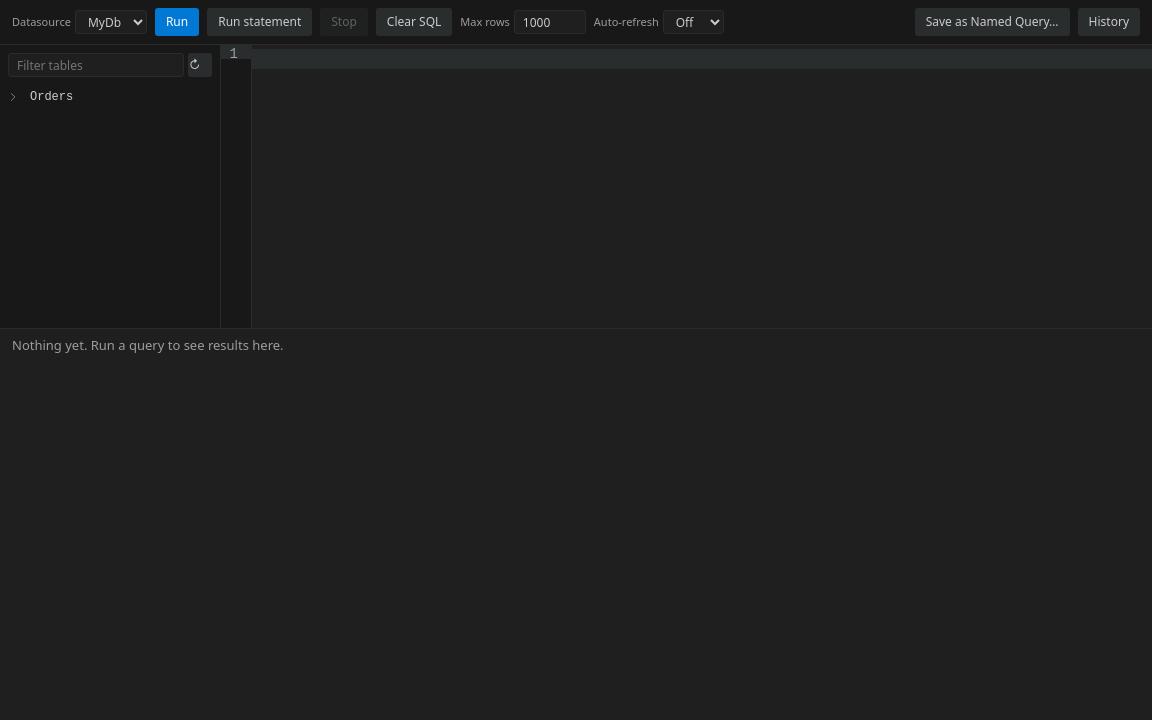
Test: QueryBrowser — save as named query (C) › in a pop-out (no callbacks given) the confirmation has no Open button
Click the button "Save as Named Query…": (992, 22) [915,8,1070,36]
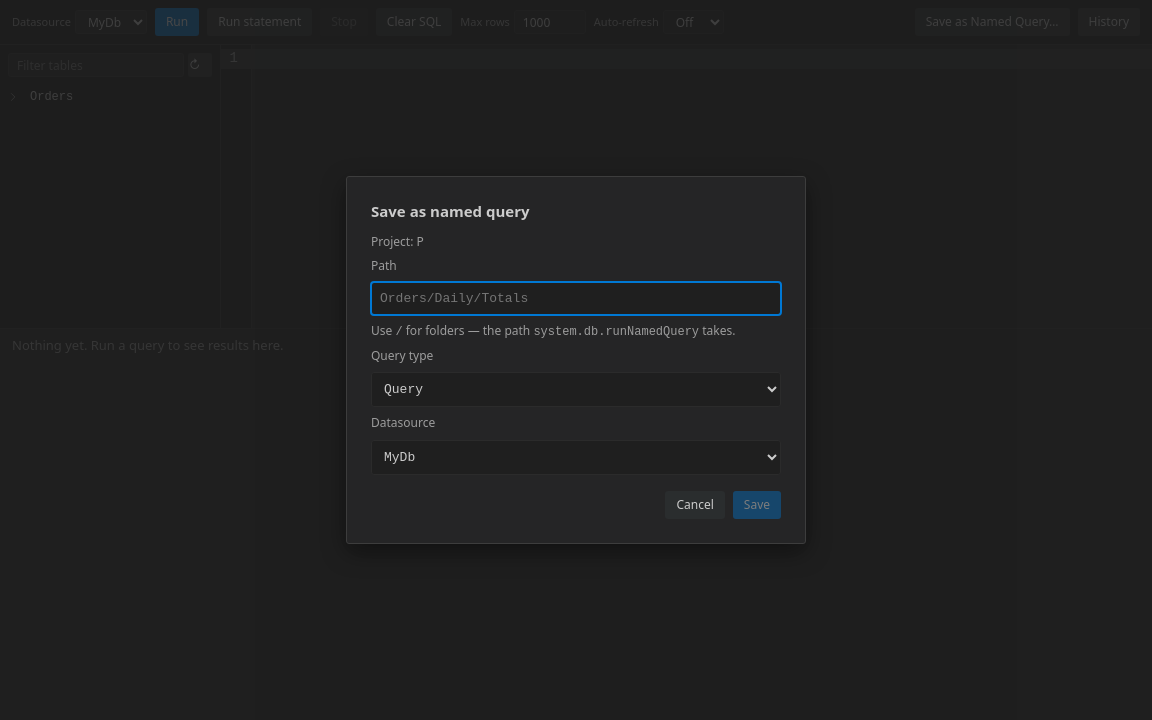
In the field labelled "Path": (576, 298) [371,282,781,315], type "Orders/Totals"
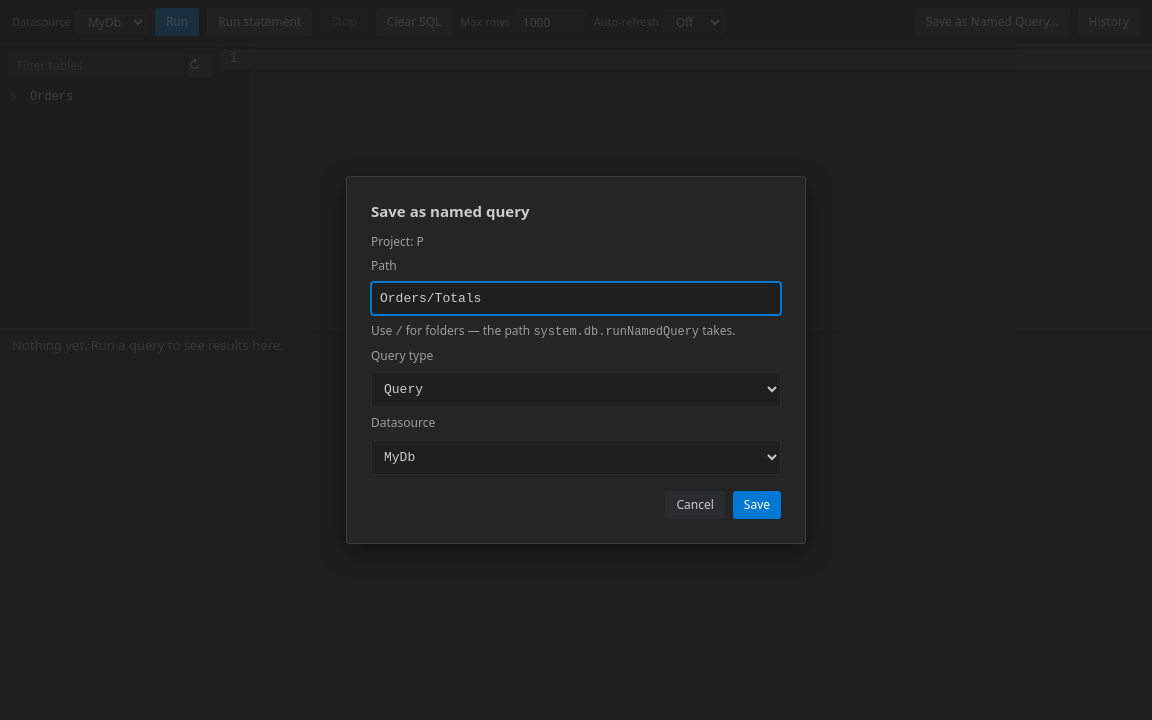
Click the button "Save": (757, 505) [733,491,781,519]
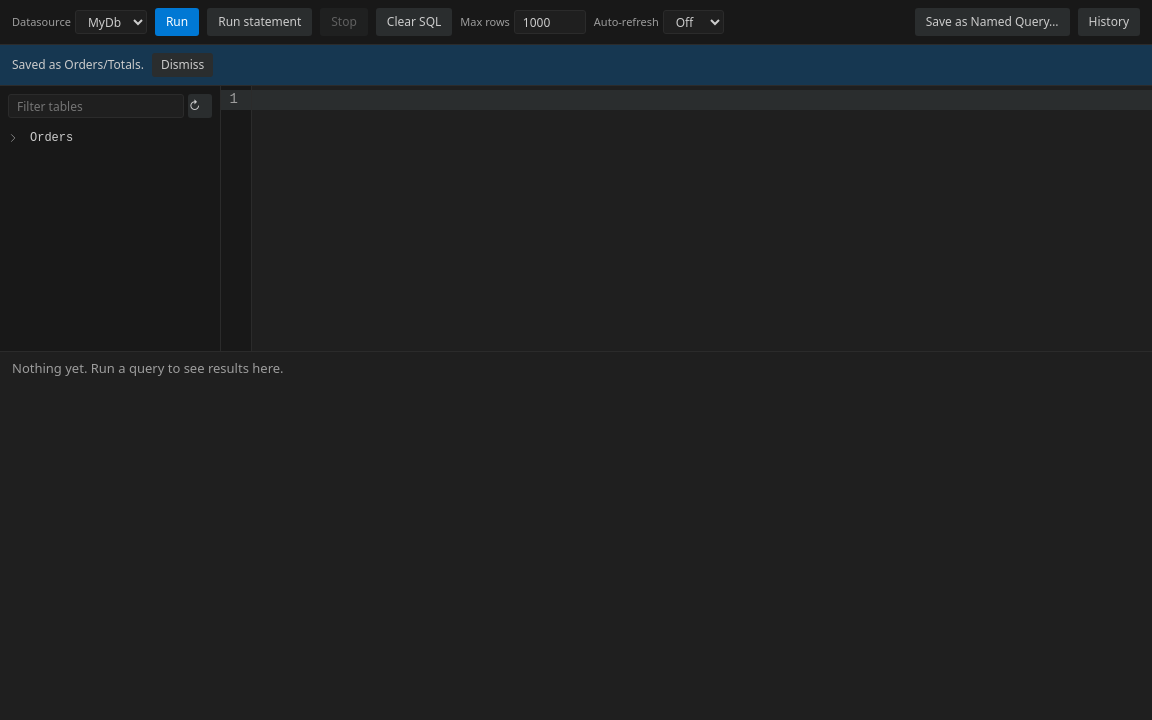
Now the text "Saved as Orders/Totals." is shown, box [12,57,144,73]
